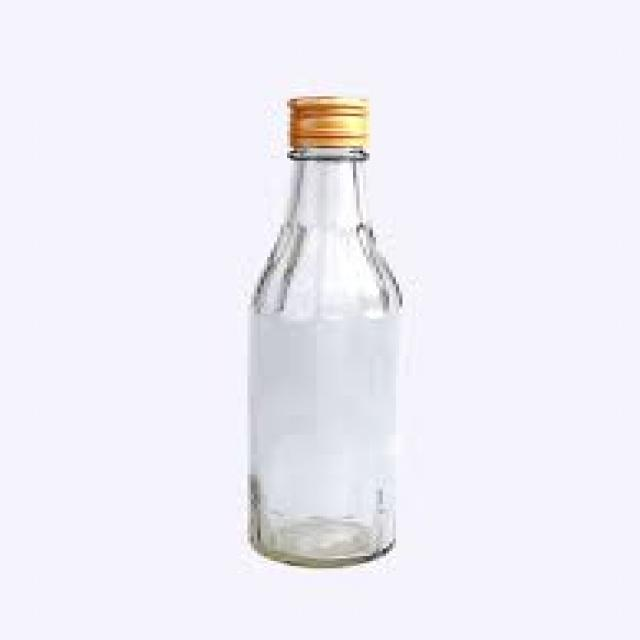Glass-Non-Biodegradable but Recyclable-: (244, 96, 404, 567)
